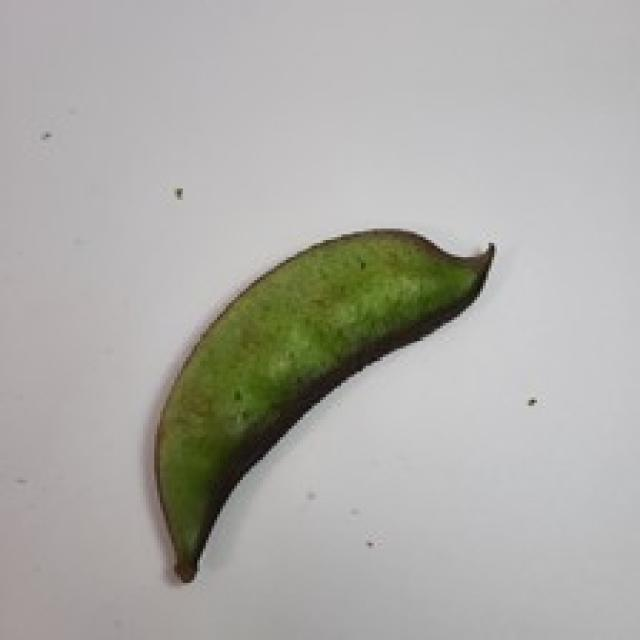Bean: (152, 223, 494, 583)
